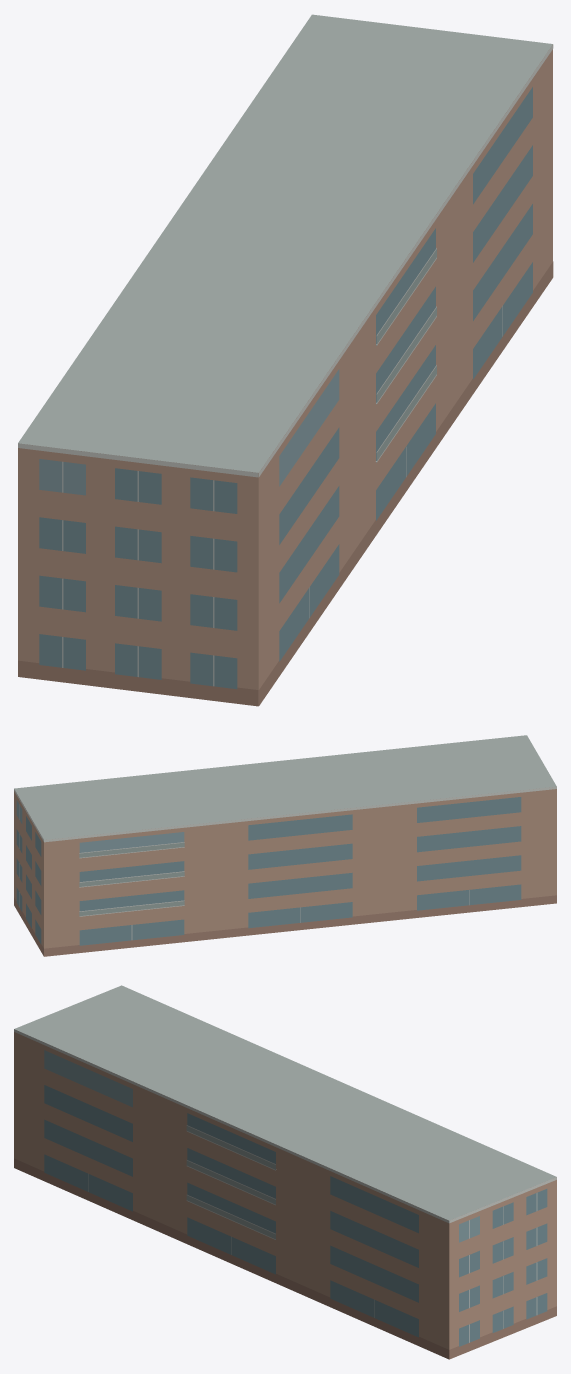
The model's file is residential-42bb5ff5-acc4-4e66-86f4-abd9bc407010.glb.
The picture shows the model from 3 angles, top to bottom: view 1: azimuth 30°, elevation 25°; view 2: azimuth 150°, elevation 25°; view 3: azimuth 270°, elevation 25°; orthographic projection. The views are drawn at different scales.
Parts seen in each view (by area): view 1: residential-42bb5ff5-acc4-4e66-86f4-abd9bc407010.tmp; view 2: residential-42bb5ff5-acc4-4e66-86f4-abd9bc407010.tmp; view 3: residential-42bb5ff5-acc4-4e66-86f4-abd9bc407010.tmp.
Boxes of the visible parts, box(x1,y1,x2,y2) form: residential-42bb5ff5-acc4-4e66-86f4-abd9bc407010.tmp: box(18, 14, 553, 706); residential-42bb5ff5-acc4-4e66-86f4-abd9bc407010.tmp: box(14, 735, 556, 956); residential-42bb5ff5-acc4-4e66-86f4-abd9bc407010.tmp: box(14, 985, 556, 1359).
Size of the model in its own units: 44.31 by 12.2 by 43.21.
